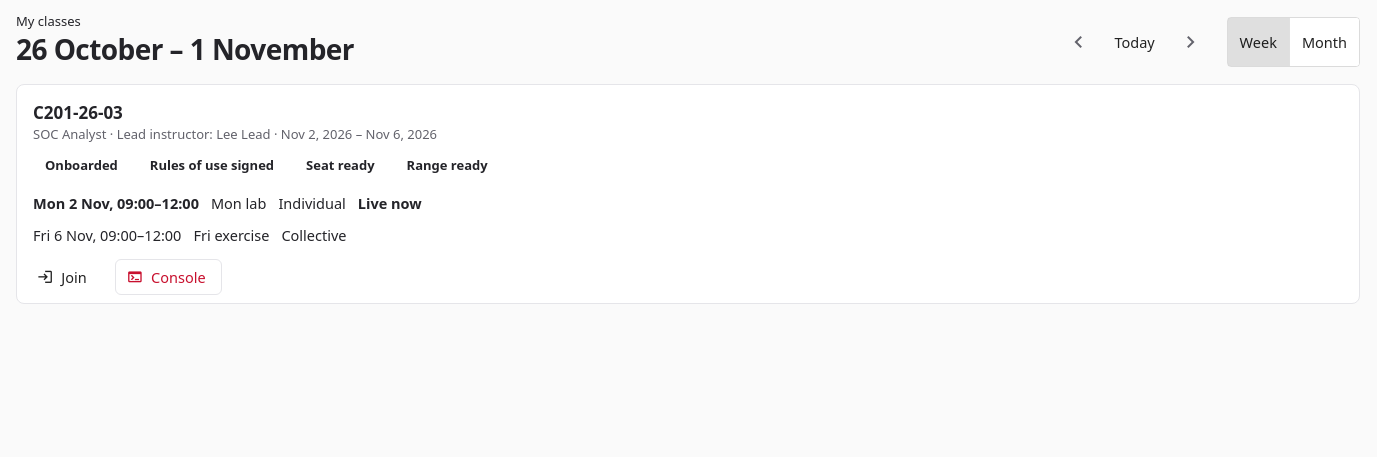
Test case: MyClassesComponent › Console waits for the session: machines are listed but cannot be opened
The width and height of the screenshot is (1377, 457).
What coordinates should you click on to do the following:
click the button with class "console"
I would click on:
 (168, 277)
Its box is 115,259 -> 222,295.
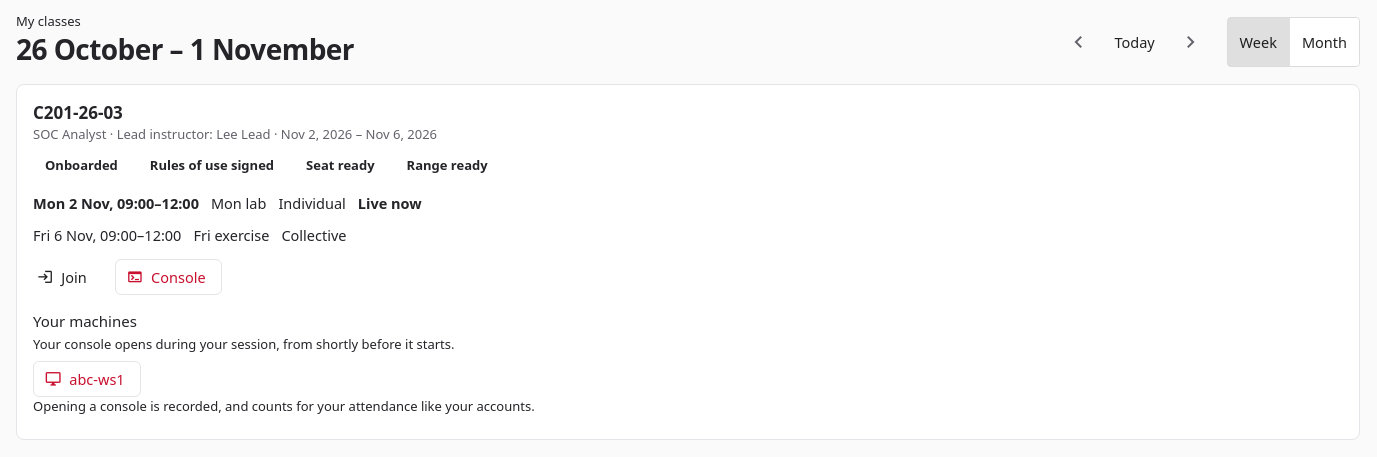
Result: the element named "Consoles: C201-26-03" shows "opens during your session" at 33,335 -> 454,353
Result: the button "abc-ws1" is disabled at 33,361 -> 141,397
